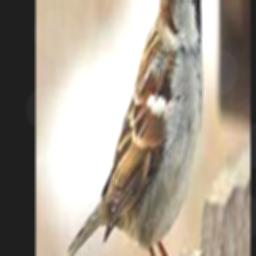Sparrow: (65, 0, 209, 256)
